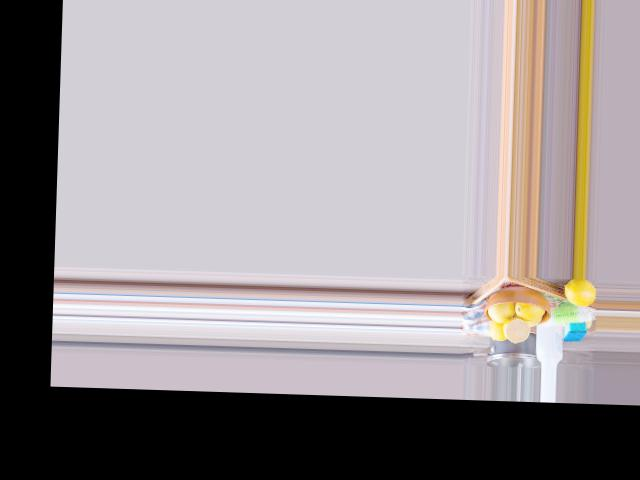lemon: (562, 278, 596, 306)
